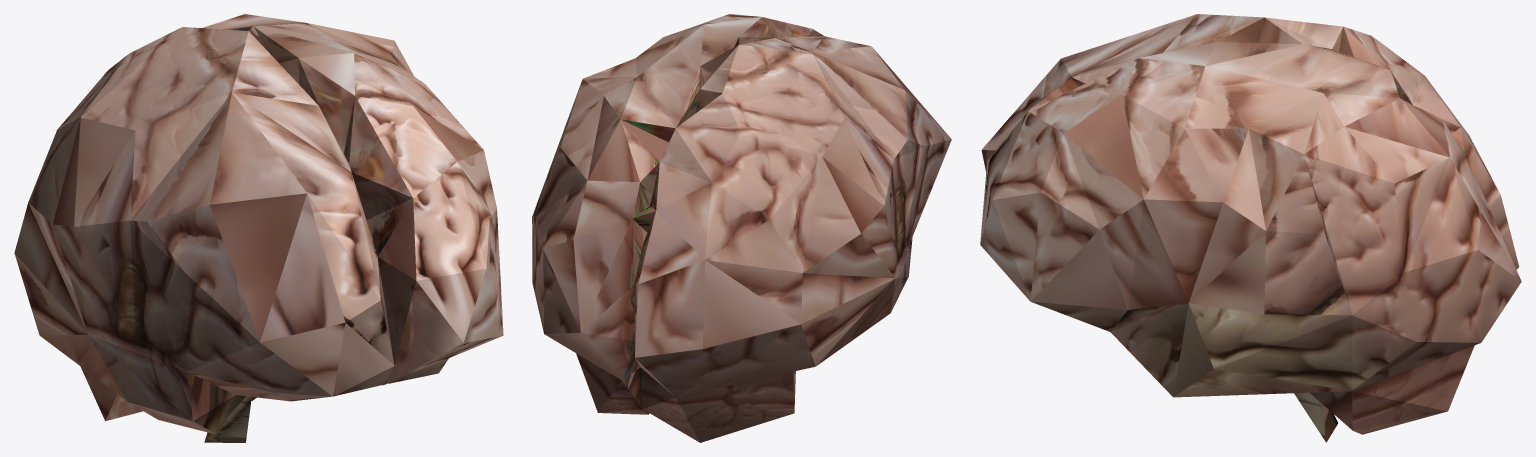
The model's file is brain3.glb.
3 views of the same model, side by side, from view 1: azimuth 30°, elevation 25°; view 2: azimuth 150°, elevation 25°; view 3: azimuth 270°, elevation 25° (orthographic). The views are drawn at different scales.
Parts seen in each view (by area): view 1: Mesh_0.001; view 2: Mesh_0.001; view 3: Mesh_0.001.
Part boxes in pixels (<box>): Mesh_0.001: <box>14,14,503,442</box>; Mesh_0.001: <box>532,14,951,442</box>; Mesh_0.001: <box>980,14,1521,442</box>.
Bounding box in the file's own units: 1.49 × 1.68 × 2.
Materials: 1 (1 with a texture image).
